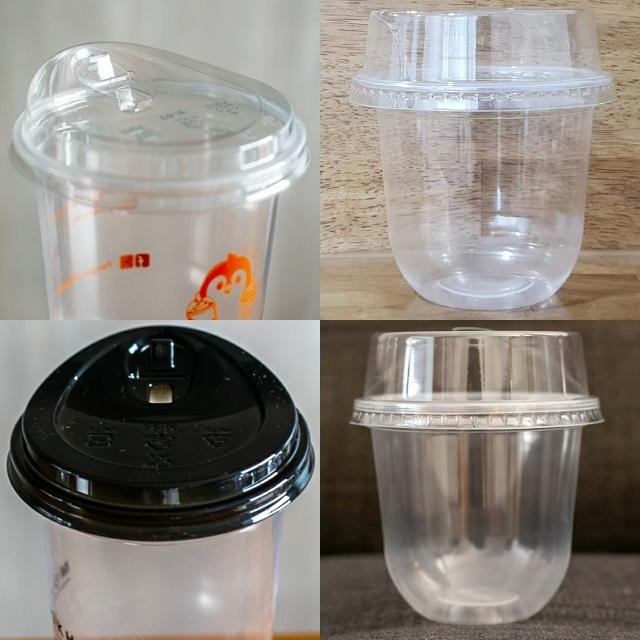Single-Use-Plastic: (8, 325, 314, 639), (10, 42, 310, 320), (350, 9, 615, 310), (351, 331, 604, 624)
